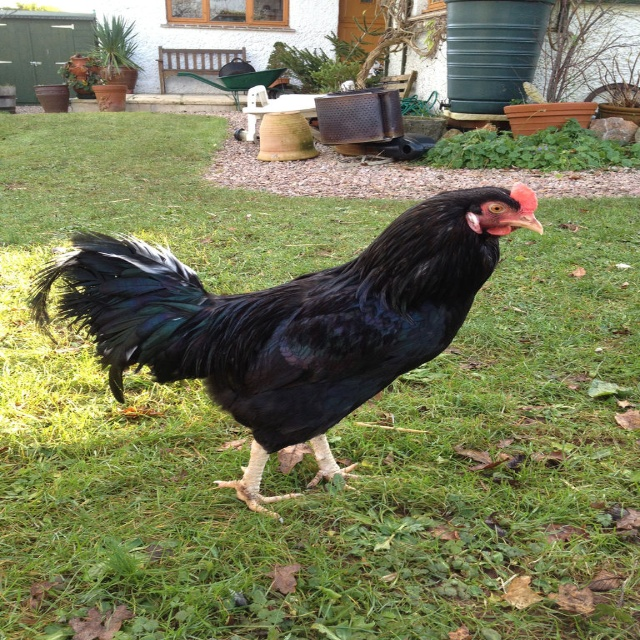Chicken: (34, 179, 544, 517)
